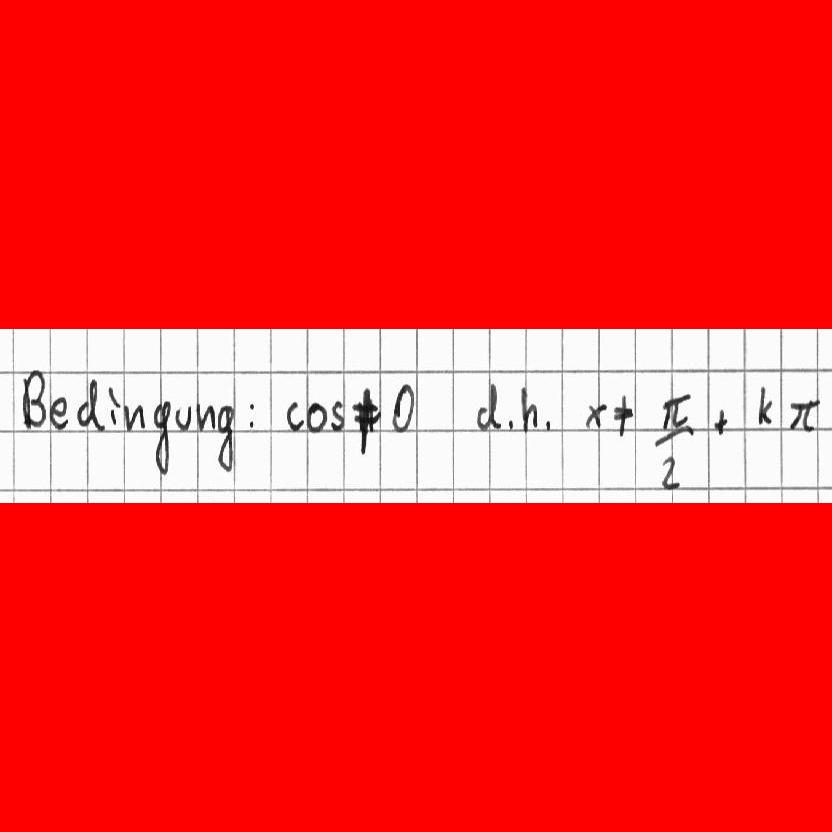Char: (655, 387, 693, 439), (20, 366, 48, 432), (353, 392, 382, 455), (214, 402, 236, 472), (76, 378, 103, 430), (152, 399, 170, 474), (390, 381, 414, 435), (787, 394, 820, 433), (474, 384, 499, 432), (650, 425, 697, 447), (519, 383, 539, 430), (658, 453, 682, 491), (612, 393, 630, 441), (755, 382, 774, 427), (50, 393, 70, 431), (284, 399, 303, 435), (584, 399, 606, 430), (174, 401, 195, 432), (308, 401, 326, 435), (196, 401, 215, 432), (123, 404, 144, 431), (107, 385, 120, 426), (329, 400, 345, 430), (713, 406, 728, 437), (247, 398, 257, 428), (541, 414, 553, 433), (504, 412, 516, 431), (824, 417, 832, 436)
